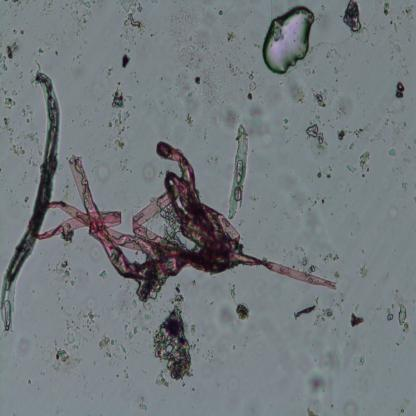Air bubble: (262, 3, 318, 76)
Background material: (152, 290, 201, 386), (52, 304, 97, 372), (0, 99, 40, 166), (225, 92, 272, 145), (181, 47, 218, 110), (293, 242, 346, 278), (107, 83, 133, 156), (385, 286, 412, 346), (53, 233, 81, 290), (94, 330, 130, 374), (293, 299, 338, 329), (226, 60, 260, 99), (382, 2, 414, 36), (126, 298, 152, 339), (305, 116, 331, 157), (121, 0, 145, 42), (336, 124, 370, 152), (306, 365, 333, 398), (340, 1, 364, 35), (70, 0, 96, 31), (390, 40, 409, 77), (0, 40, 19, 72), (347, 304, 368, 329), (286, 81, 308, 104), (233, 302, 254, 324), (347, 349, 370, 369), (359, 150, 372, 180), (223, 30, 241, 48), (140, 164, 158, 181), (314, 88, 328, 108), (181, 112, 196, 130), (394, 80, 407, 100), (310, 194, 327, 209), (136, 396, 150, 414), (317, 164, 331, 181), (227, 282, 240, 300), (0, 87, 19, 99), (342, 399, 357, 414), (357, 262, 370, 278), (97, 268, 109, 283), (121, 52, 131, 70), (386, 144, 397, 158), (400, 179, 409, 195), (11, 28, 24, 36), (38, 48, 46, 56)
Cellulose filter fibre: (0, 70, 61, 334), (226, 122, 248, 221)
Cotton: (38, 142, 338, 301)
